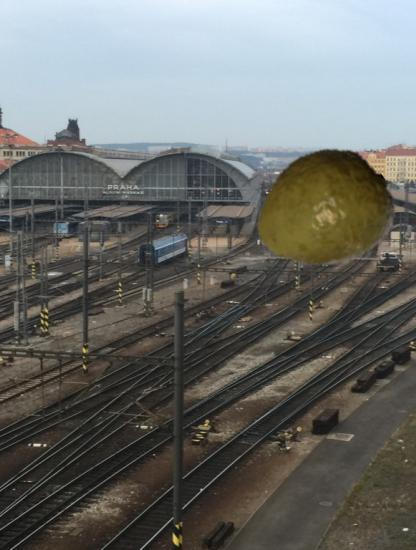Guava: (254, 142, 392, 280)
